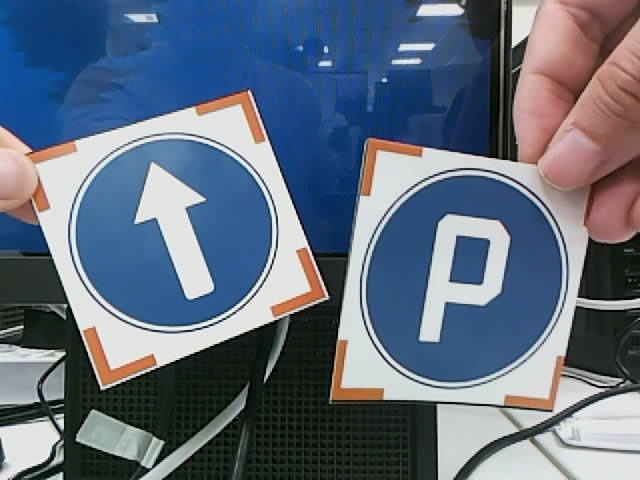go: (67, 133, 281, 333)
right: (361, 167, 568, 389)
